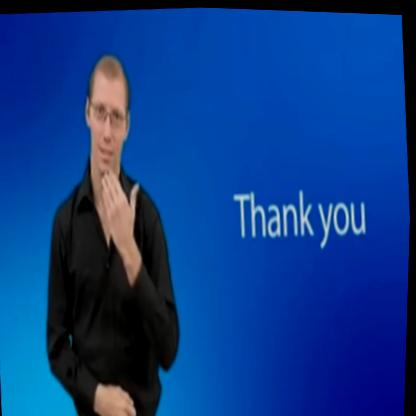ThankYou: (59, 20, 168, 297)
